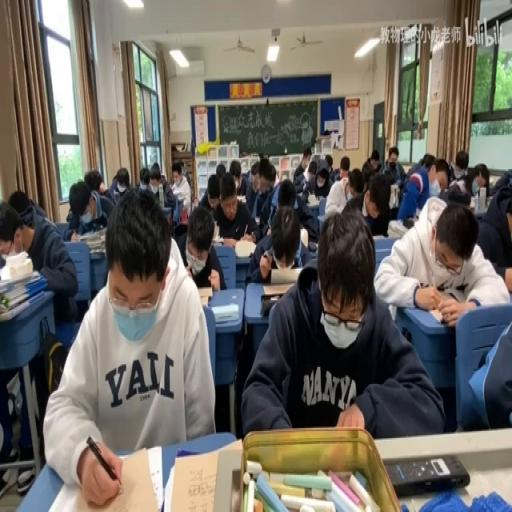calculator: (50, 443, 159, 512), (163, 445, 234, 512), (427, 289, 462, 323), (77, 228, 106, 252), (210, 302, 238, 324), (267, 266, 302, 283), (234, 238, 256, 258), (262, 283, 294, 296), (170, 196, 182, 225), (197, 286, 213, 306), (389, 182, 398, 208), (306, 194, 320, 206), (488, 175, 502, 186), (307, 240, 318, 252), (211, 234, 224, 244), (235, 194, 245, 204), (372, 232, 387, 237), (112, 189, 118, 201), (253, 216, 259, 225)
paper: (239, 204, 438, 436), (2, 189, 79, 491), (464, 302, 509, 426), (271, 168, 322, 243), (181, 202, 223, 292), (475, 174, 511, 273), (210, 174, 258, 248), (354, 170, 395, 238), (64, 176, 110, 236), (142, 162, 178, 225), (436, 164, 474, 206), (400, 152, 430, 199), (106, 164, 132, 202), (381, 145, 404, 186), (197, 168, 219, 209), (8, 189, 34, 222), (360, 148, 382, 183), (232, 156, 249, 195), (346, 166, 364, 202), (294, 145, 312, 179), (179, 160, 191, 188), (266, 164, 277, 194), (138, 165, 150, 189), (421, 154, 435, 169), (339, 155, 350, 174), (216, 160, 226, 178), (324, 152, 333, 172), (301, 178, 310, 196), (92, 179, 102, 195), (477, 174, 487, 190), (250, 161, 260, 176), (330, 168, 340, 182), (448, 160, 454, 180), (170, 175, 176, 186)
person: (384, 454, 470, 496), (259, 294, 284, 316), (402, 218, 414, 228)
